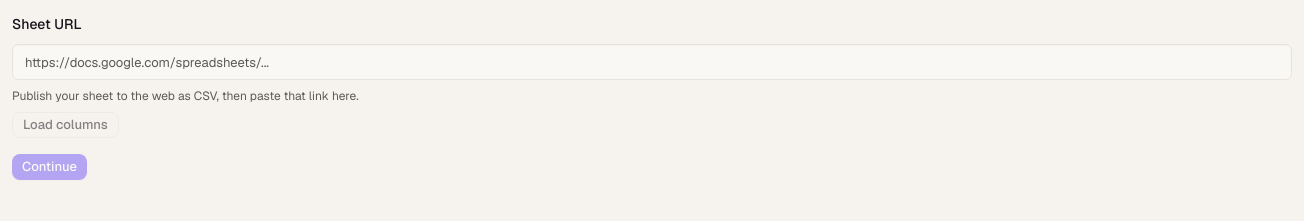
Scenario: ConnectStep › Load columns saves the URL and loads headers via the sheet-import hook
Type "https://docs.google.com/spreadsheets/d/x/pub?output=csv&format=csv" into the field labelled "Sheet URL" at (652, 62), box [12, 44, 1292, 80]
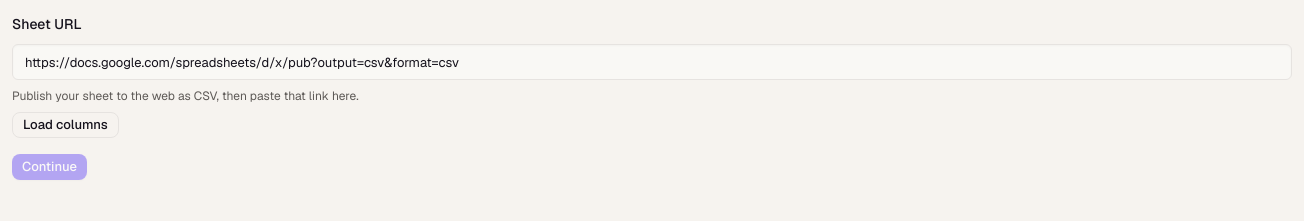
Click the button "Load columns" at (65, 125), box [12, 112, 119, 138]
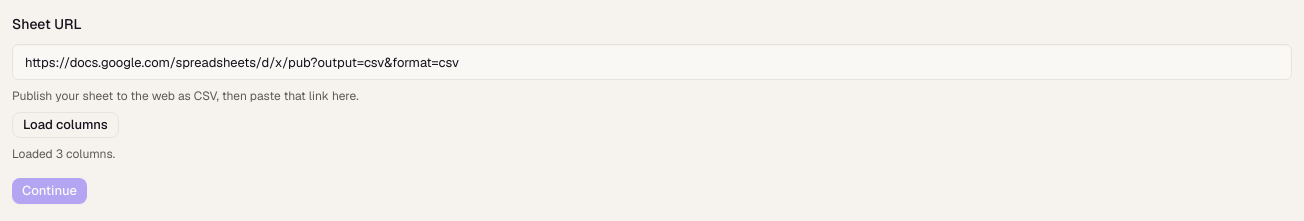
expect the text "Loaded 3 columns." is shown: met, box [12, 146, 115, 162]
